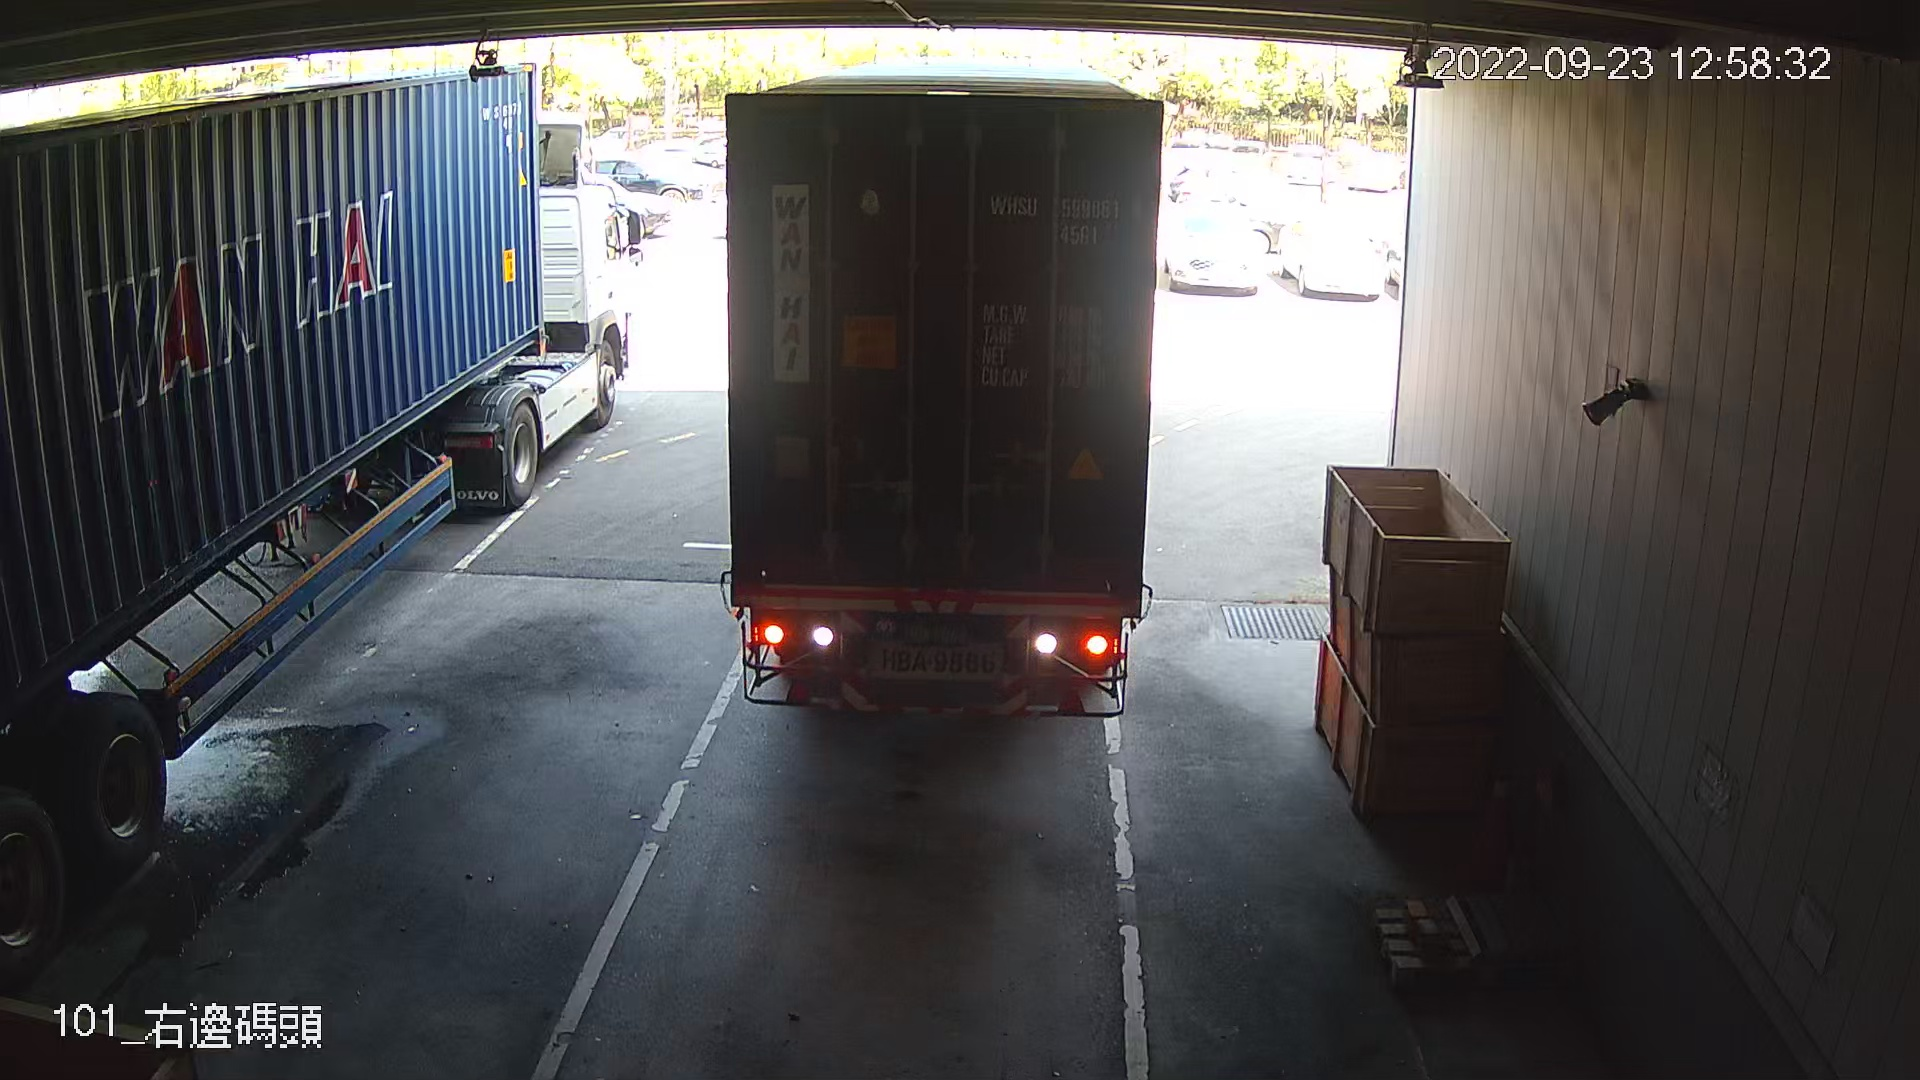container: (984, 179, 1153, 255)
